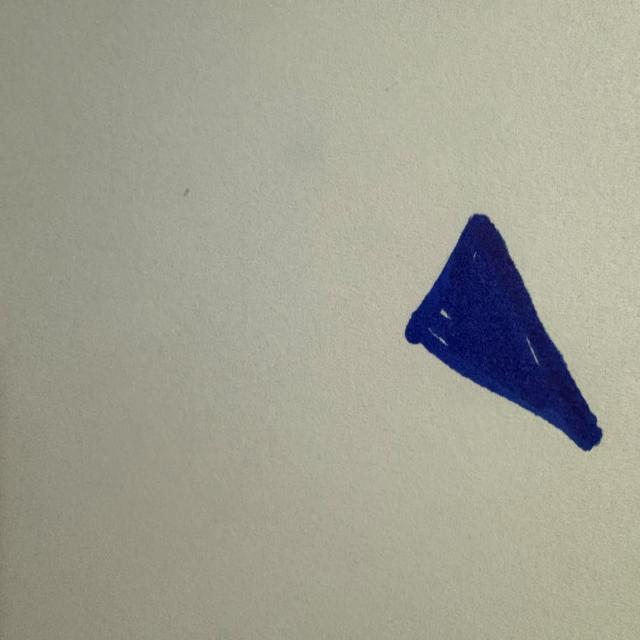Triangle: (405, 214, 602, 450)
